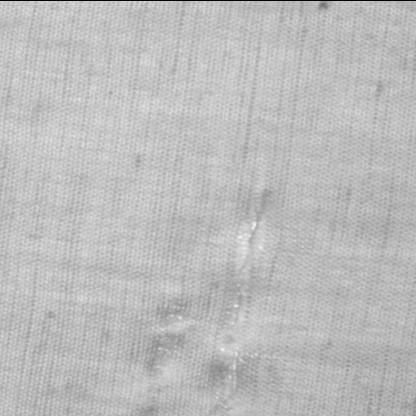thread error: (208, 180, 276, 416), (140, 294, 191, 372)
